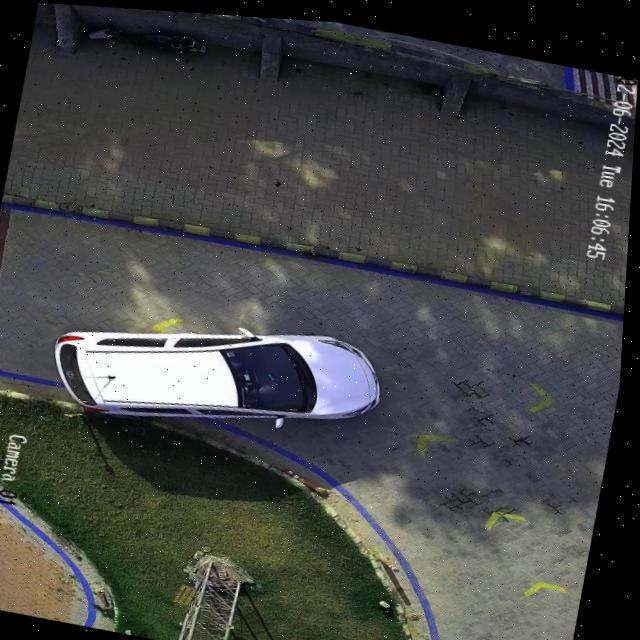car: (57, 323, 383, 422)
